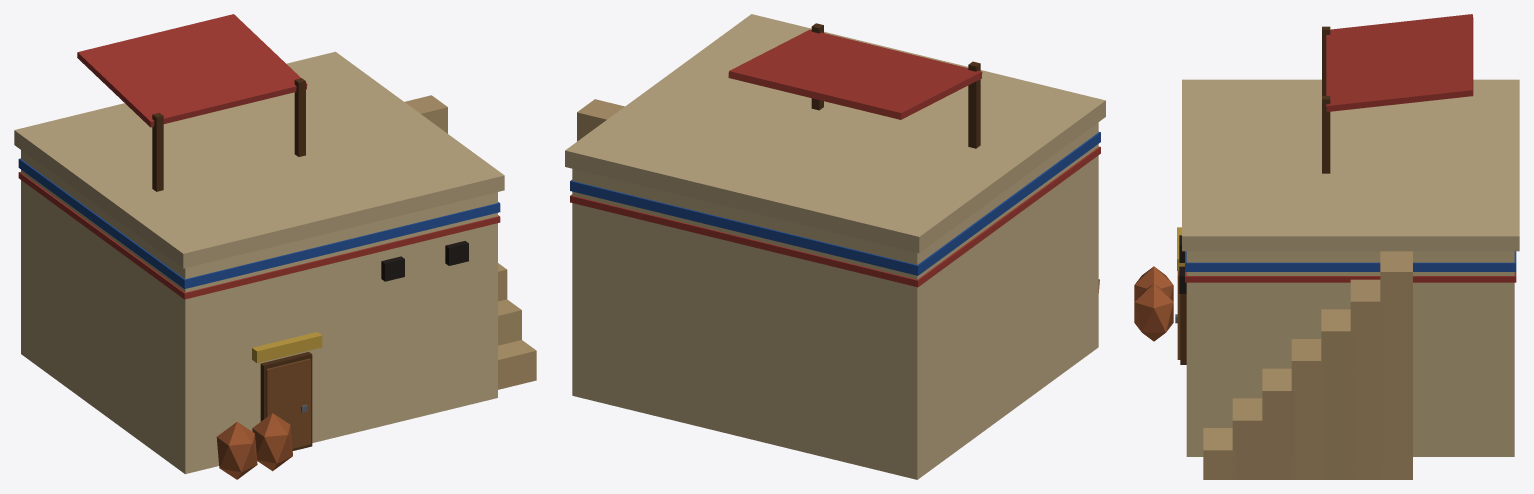
Rendered from gnoll_hall.glb.
3 views of the same model, side by side, from view 1: azimuth 30°, elevation 25°; view 2: azimuth 150°, elevation 25°; view 3: azimuth 270°, elevation 25° (orthographic). The views are drawn at different scales.
Parts seen in each view (by area): view 1: gnoll_hall; view 2: gnoll_hall; view 3: gnoll_hall.
Boxes of the visible parts, <box> form: gnoll_hall: <box>14,14,536,479</box>; gnoll_hall: <box>565,14,1105,479</box>; gnoll_hall: <box>1134,14,1519,479</box>.
Bounding box in the file's own units: 2.6 × 2.12 × 2.38.
